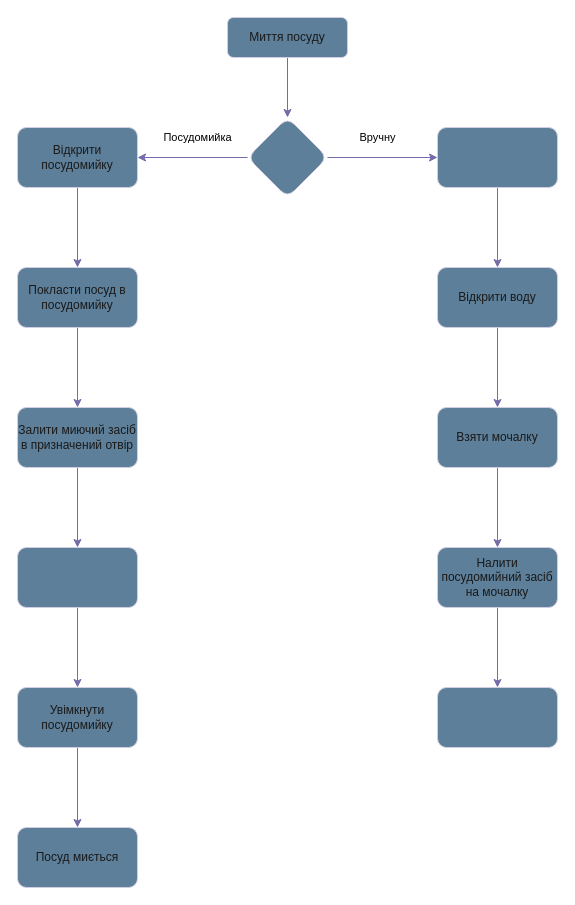
Some shapes in this 575 by 905 pixel diagram are drawn without their labels. The shapes that lost their labels are listed below. From the top down, each one's box as (x1, y1, x2, y2) in pixels, then its label:
(246, 116, 328, 198): Обрати спосіб
(436, 126, 558, 188): Покласти посуд у раковину
(16, 546, 138, 608): Закрити посудомийку
(436, 686, 558, 748): Почати мити посуд
